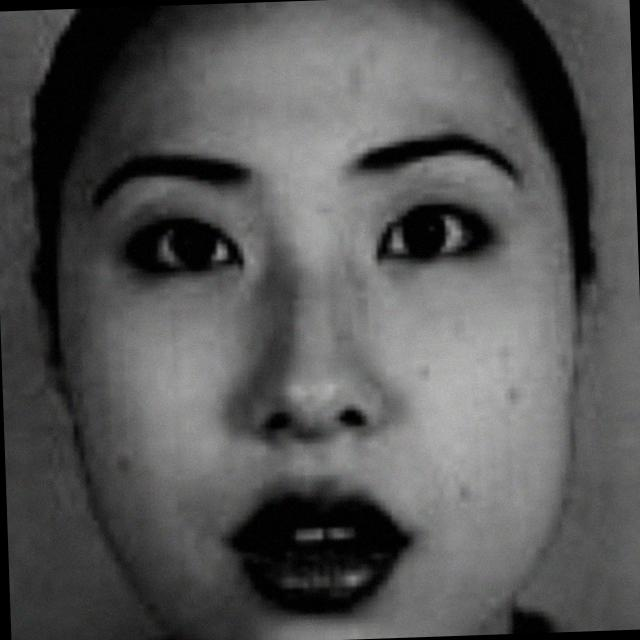surprise: (79, 38, 592, 640)
